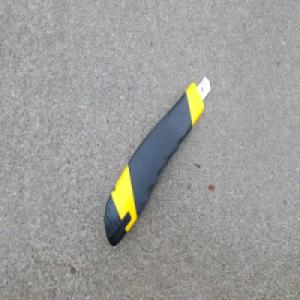Cutter: (104, 75, 212, 247)
